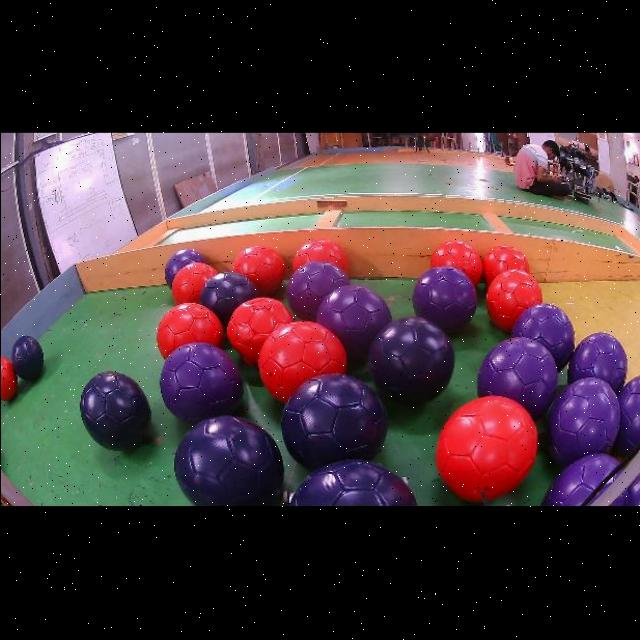B: (281, 374, 387, 468), (174, 415, 283, 506), (368, 316, 455, 403), (288, 459, 417, 506), (79, 371, 151, 450), (199, 271, 257, 329), (10, 335, 43, 380)
P: (160, 342, 243, 424), (477, 337, 558, 419), (548, 377, 619, 467), (316, 284, 392, 361), (512, 302, 575, 371), (412, 266, 477, 332), (542, 453, 618, 506), (287, 261, 349, 321), (568, 332, 627, 393), (617, 376, 640, 457), (164, 249, 205, 288)
R: (435, 396, 538, 502), (257, 320, 347, 402), (226, 297, 294, 366), (156, 302, 223, 358), (486, 268, 543, 332), (232, 245, 284, 296), (430, 240, 482, 285), (292, 238, 348, 274), (482, 245, 530, 285), (171, 262, 217, 303), (0, 357, 17, 401)
